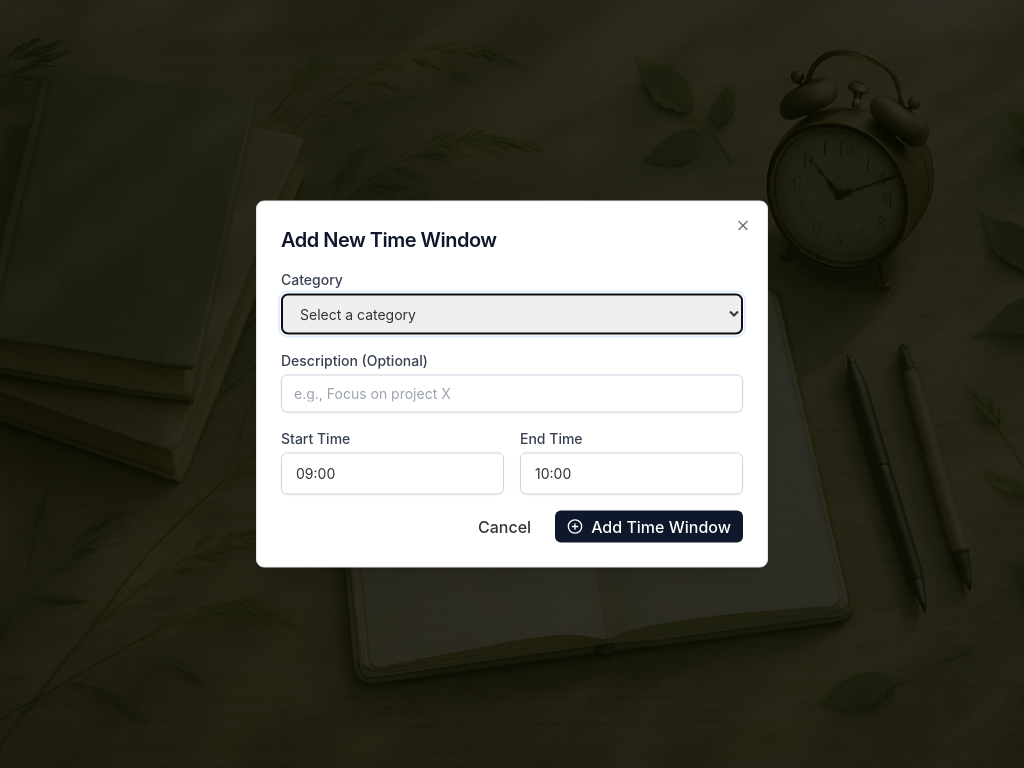
TimeWindowModal › Create Mode › shows validation error if end time is not after start time
The width and height of the screenshot is (1024, 768).
Replace the text in the field labelled "Start Time" with "14:00" at (392, 474), box [281,452,504,494]
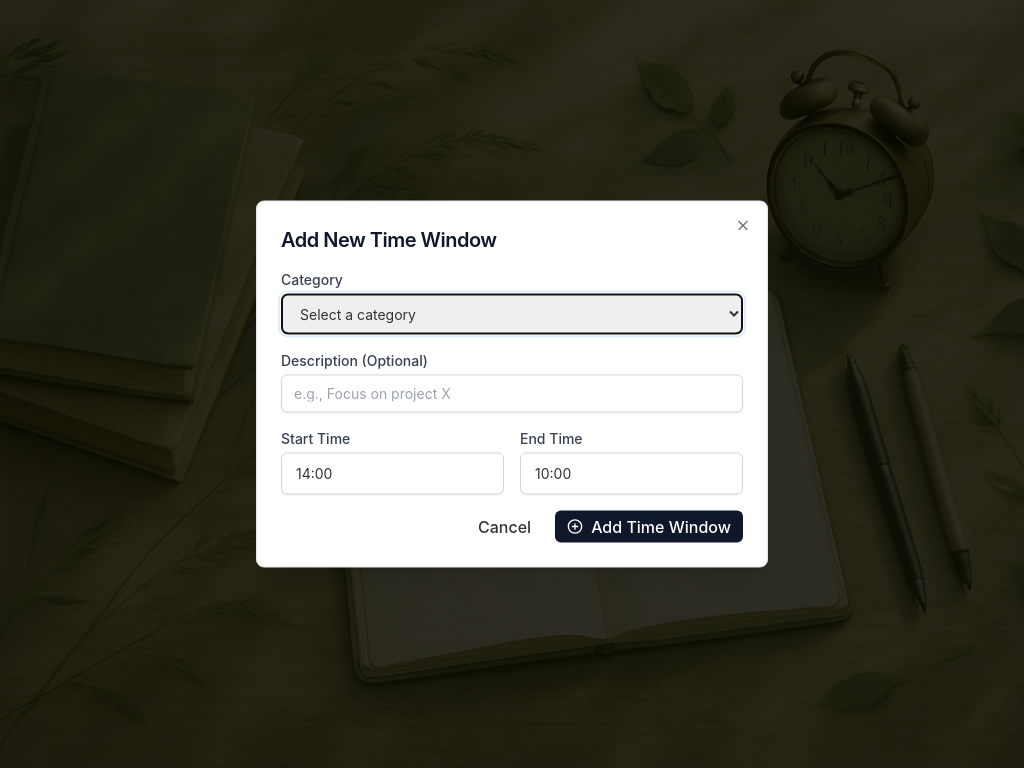
Replace the text in the field labelled "End Time" with "13:00" at (632, 474), box [520,452,743,494]
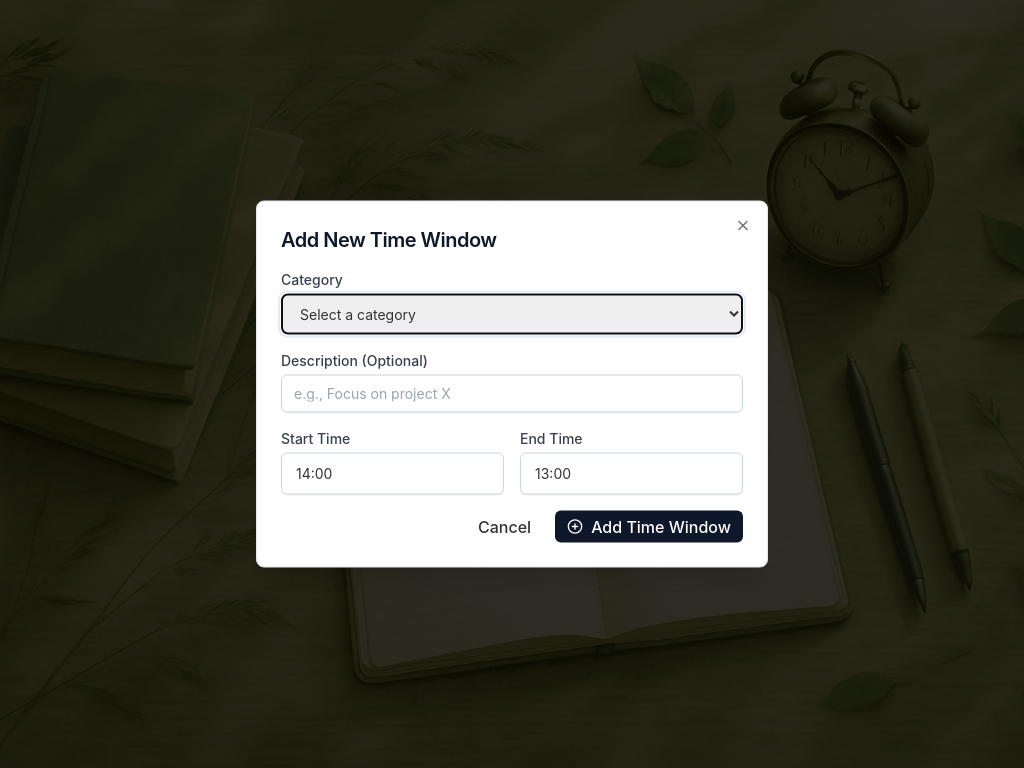
Click the button "Add Time Window" at (649, 526), box [555,510,743,542]
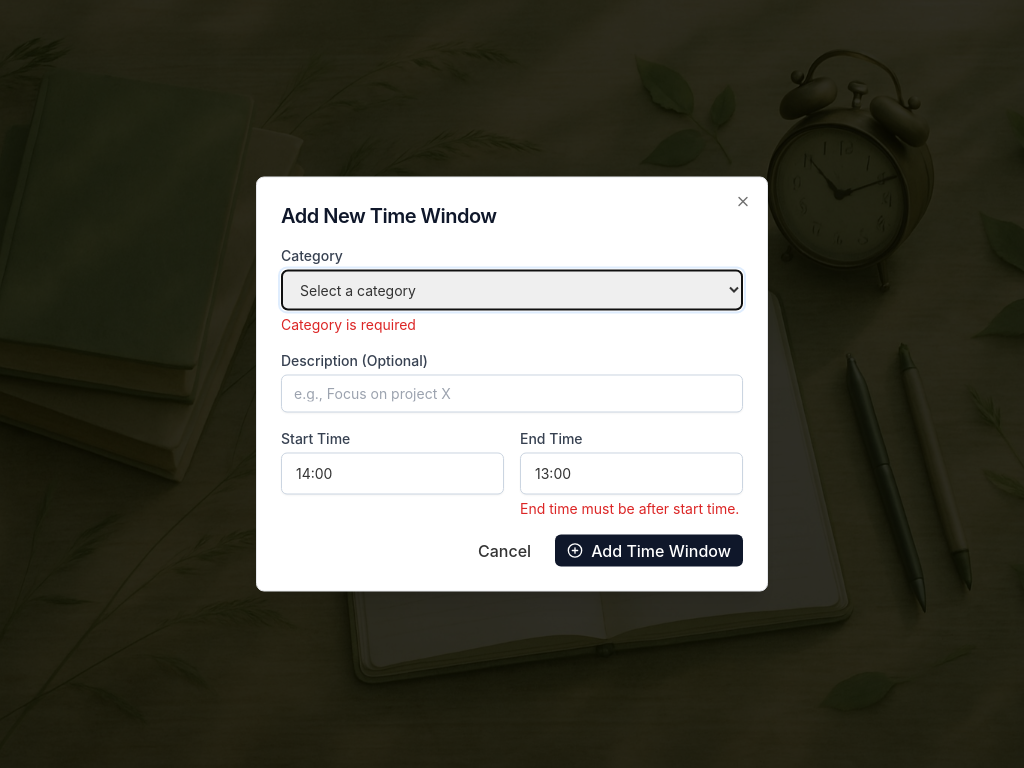
Expected: the text "End time must be after start time." is shown, [520,498,743,518]
